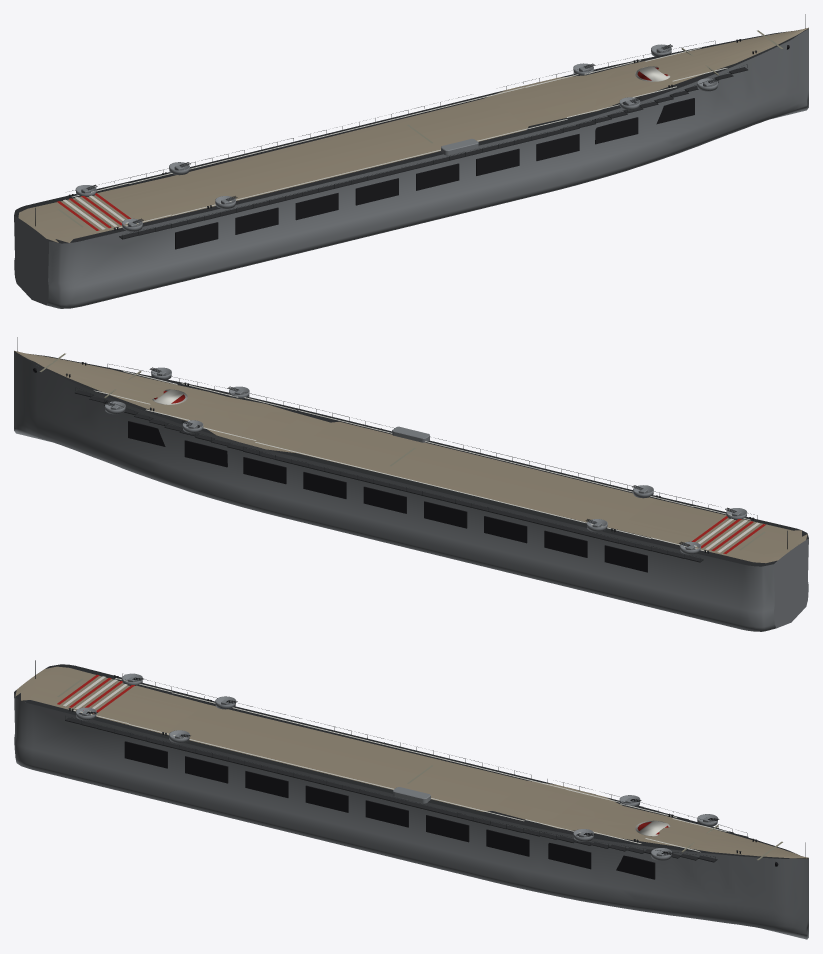
Rendered from zuiho_lod.glb.
3 views of the same model, one above another, from view 1: azimuth 30°, elevation 25°; view 2: azimuth 150°, elevation 25°; view 3: azimuth 330°, elevation 25° (orthographic).
Visible parts, largest first — view 1: zuiho_lod; view 2: zuiho_lod; view 3: zuiho_lod.
Part boxes in pixels (<box>): zuiho_lod: <box>14,14,808,308</box>; zuiho_lod: <box>14,337,808,631</box>; zuiho_lod: <box>14,660,808,939</box>.
Size of the model in its own units: 206 by 24.43 by 26.4.
